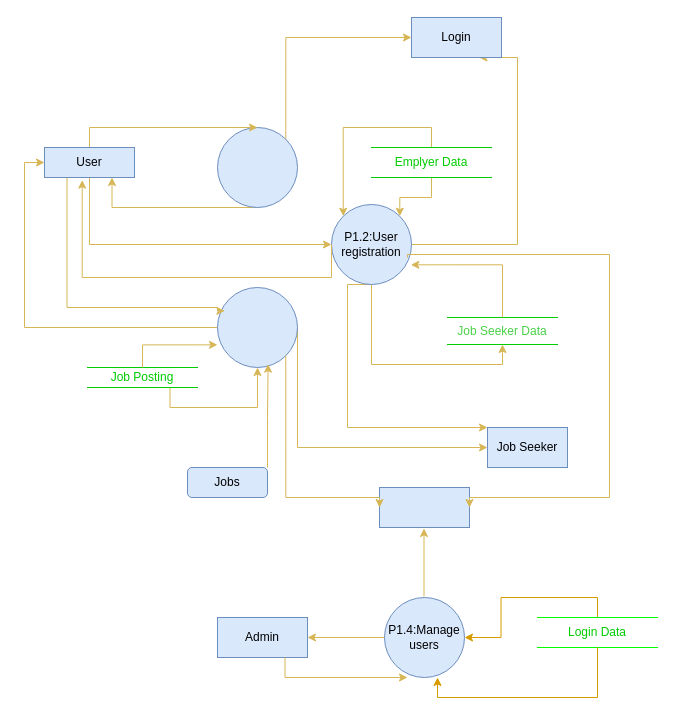
This 675x723 diagram has some shape labels left out. The centre of each missing label's shape, as x and y in pixels:
"Employer" belongs at [424,507].
"P1.1:Login Process" belongs at [257,167].
"P1.3:Search Process" belongs at [257,327].
